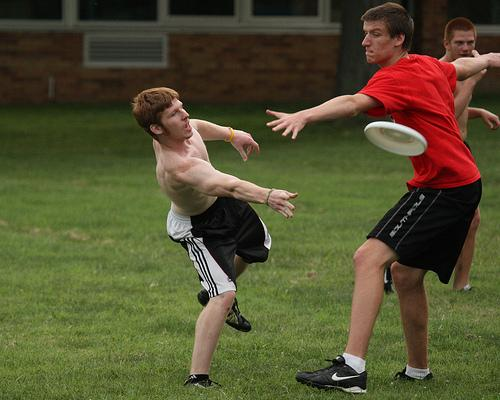person: (132, 86, 301, 388)
